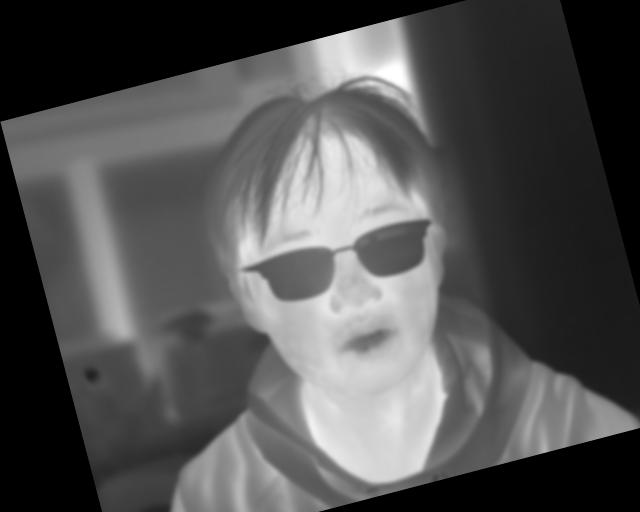face: (306, 128, 385, 223), (172, 189, 241, 278)
